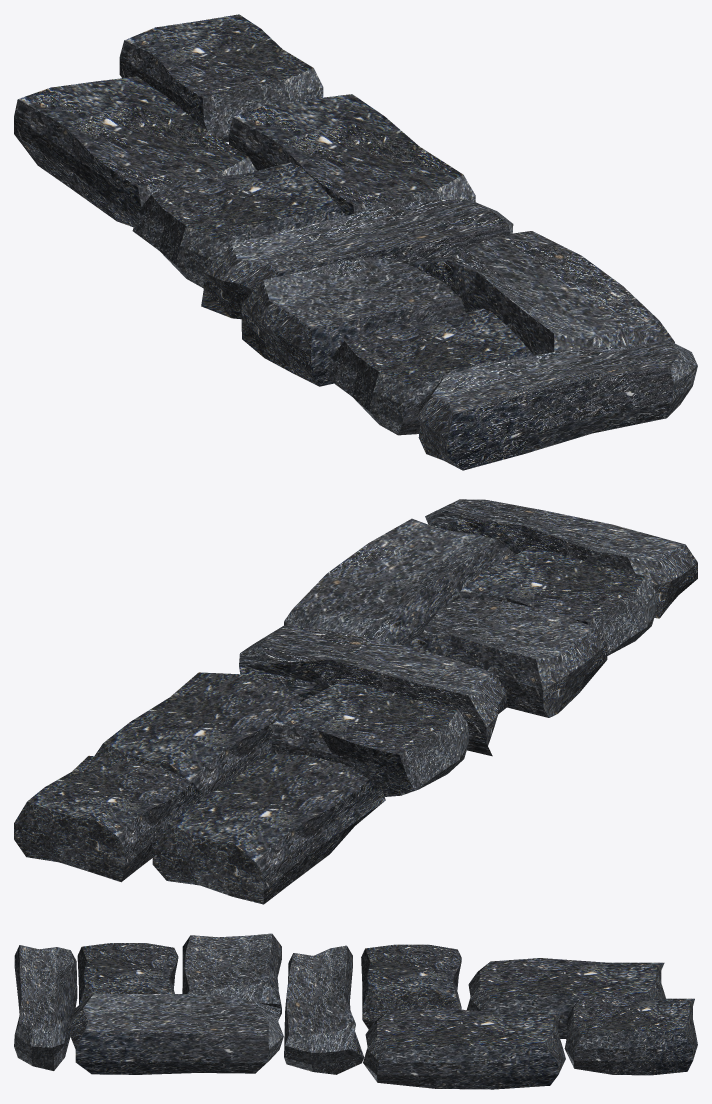
Rendered from path stones.glb.
3 renders of one model, top to bottom at view 1: azimuth 30°, elevation 25°; view 2: azimuth 150°, elevation 25°; view 3: azimuth 270°, elevation 25°, orthographic. The views are drawn at different scales.
Visible parts, largest first — view 1: Cube.003, Cube.006, Cube.002, Cube.007, Cube.001, Cube.004, Cube.008, Cube.005, Cube; view 2: Cube.006, Cube.002, Cube.008, Cube.005, Cube.004, Cube.001, Cube.007, Cube.003, Cube; view 3: Cube.002, Cube.007, Cube.008, Cube.006, Cube.004, Cube.003, Cube.005, Cube.001, Cube.
Boxes of the visible parts, x1=… form: Cube.003: x1=417, y1=339, x2=697, y2=470; Cube.006: x1=14, y1=76, x2=256, y2=227; Cube.002: x1=414, y1=231, x2=674, y2=355; Cube.007: x1=229, y1=94, x2=475, y2=215; Cube.001: x1=241, y1=257, x2=465, y2=386; Cube.004: x1=201, y1=199, x2=513, y2=319; Cube.008: x1=119, y1=14, x2=323, y2=142; Cube.005: x1=132, y1=162, x2=345, y2=288; Cube: x1=325, y1=308, x2=533, y2=435; Cube.006: x1=152, y1=753, x2=385, y2=904; Cube.002: x1=284, y1=518, x2=515, y2=644; Cube.008: x1=14, y1=755, x2=203, y2=882; Cube.005: x1=271, y1=680, x2=468, y2=796; Cube.004: x1=239, y1=623, x2=506, y2=756; Cube.001: x1=401, y1=598, x2=607, y2=717; Cube.007: x1=94, y1=672, x2=304, y2=797; Cube.003: x1=425, y1=499, x2=697, y2=618; Cube: x1=460, y1=547, x2=656, y2=655; Cube.002: x1=67, y1=993, x2=283, y2=1074; Cube.007: x1=363, y1=1008, x2=565, y2=1089; Cube.008: x1=564, y1=994, x2=697, y2=1075; Cube.006: x1=467, y1=958, x2=665, y2=1039; Cube.004: x1=284, y1=945, x2=364, y2=1074; Cube.003: x1=14, y1=945, x2=77, y2=1070; Cube.005: x1=361, y1=944, x2=461, y2=1029; Cube.001: x1=182, y1=933, x2=281, y2=1018; Cube: x1=77, y1=943, x2=178, y2=1004.
Size of the model in its own units: 2.57 by 0.6924 by 6.89.
1 material, 1 textured.
